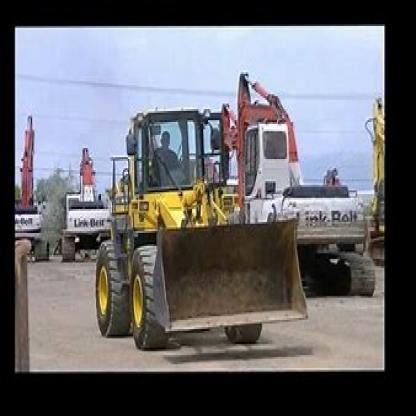bull_dozer/loader/grader: (86, 105, 318, 344)
